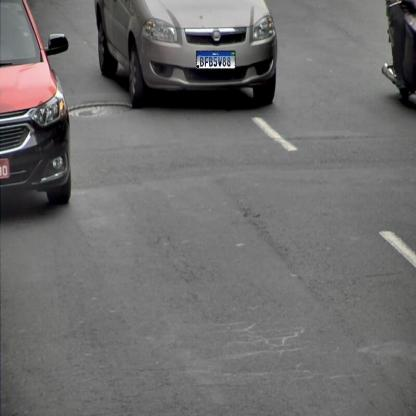PlacaM: (196, 51, 236, 69)
